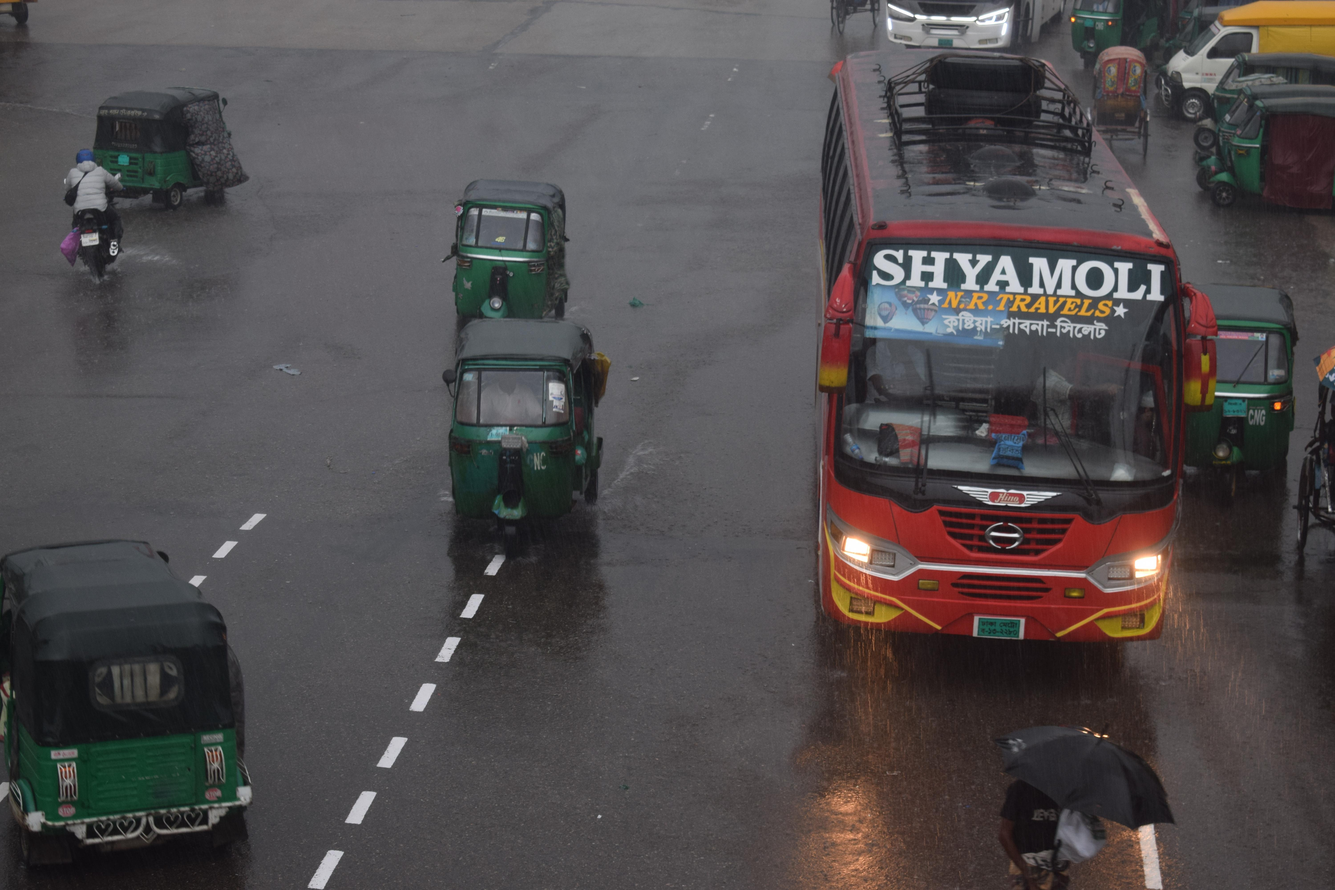Bike: (26, 121, 142, 306)
Bus: (772, 32, 1254, 706), (829, 0, 1083, 72)
Car: (1149, 0, 1335, 127)
